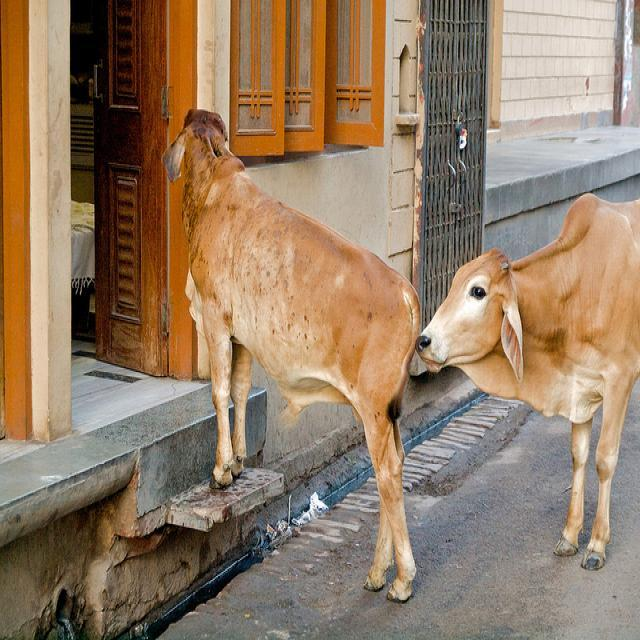cow: (164, 109, 421, 596), (412, 191, 639, 569)
